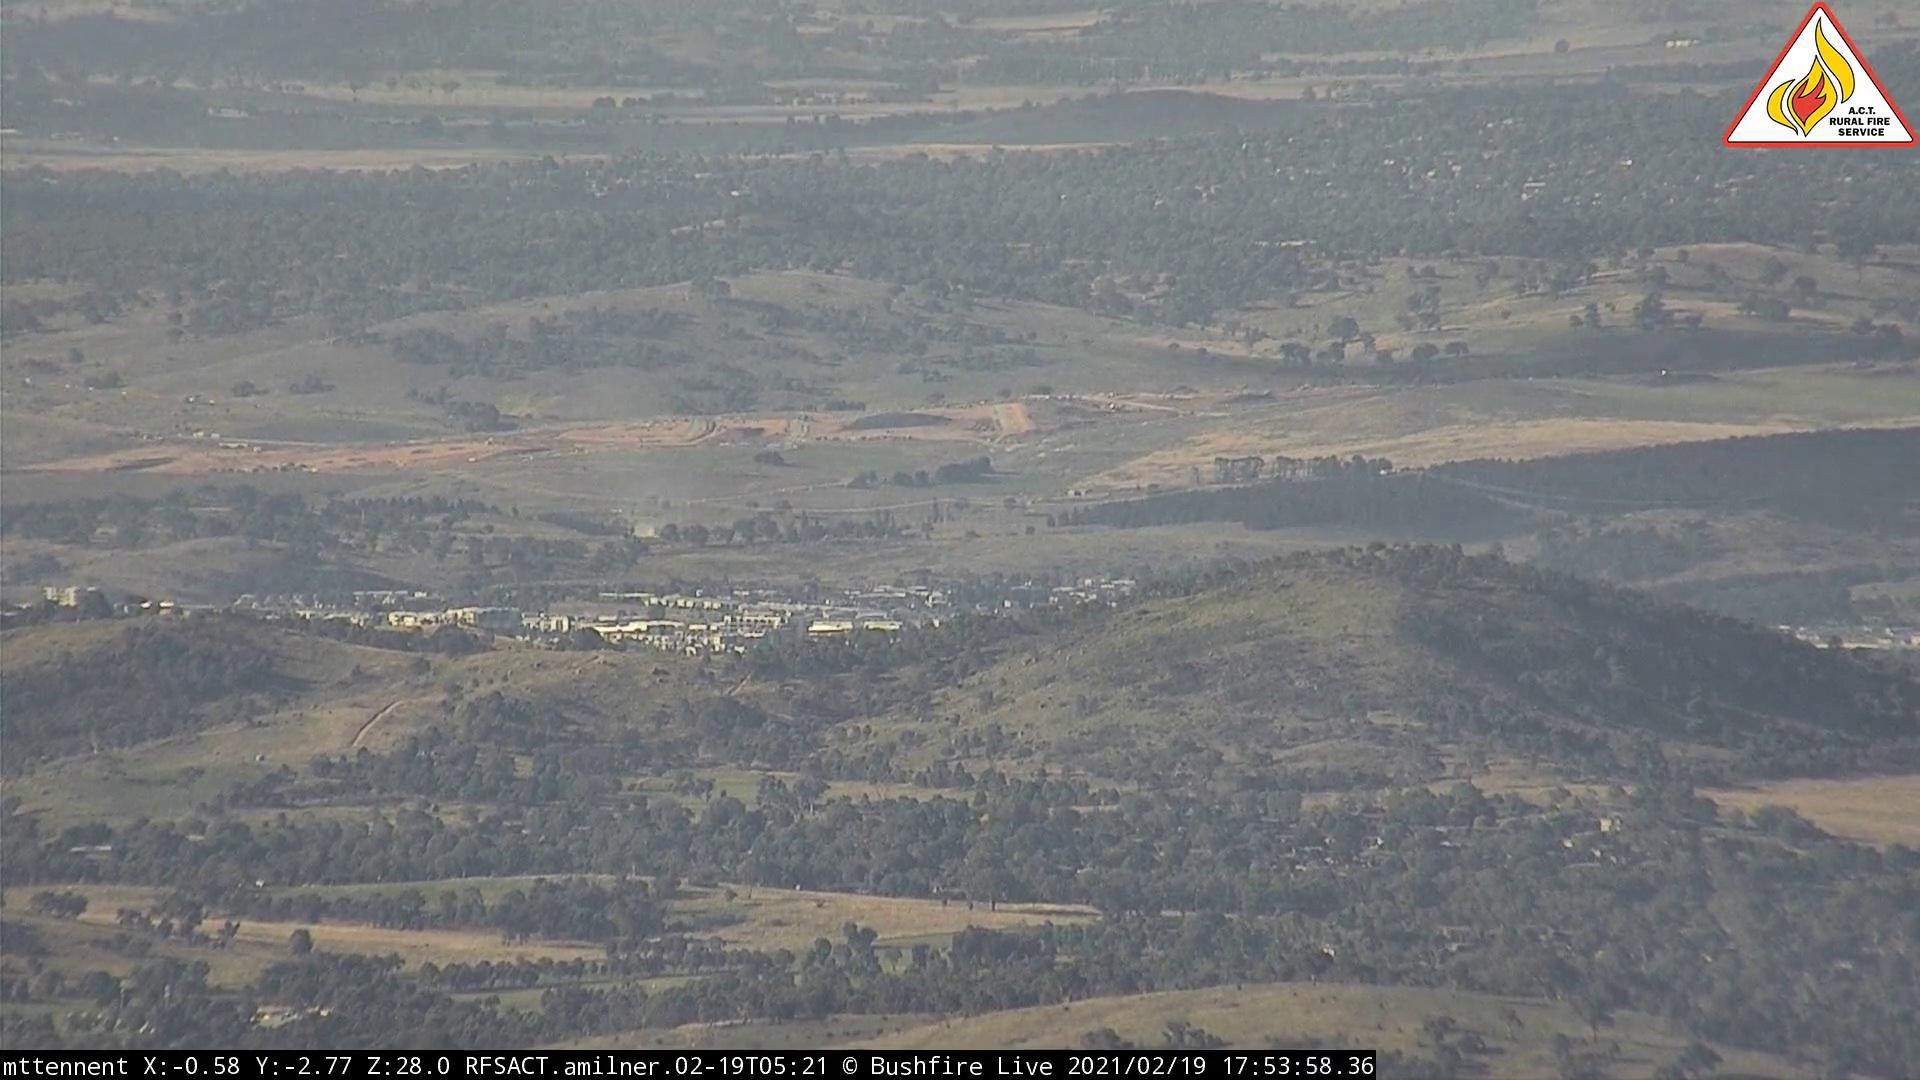Smoke: (616, 496, 691, 541)
